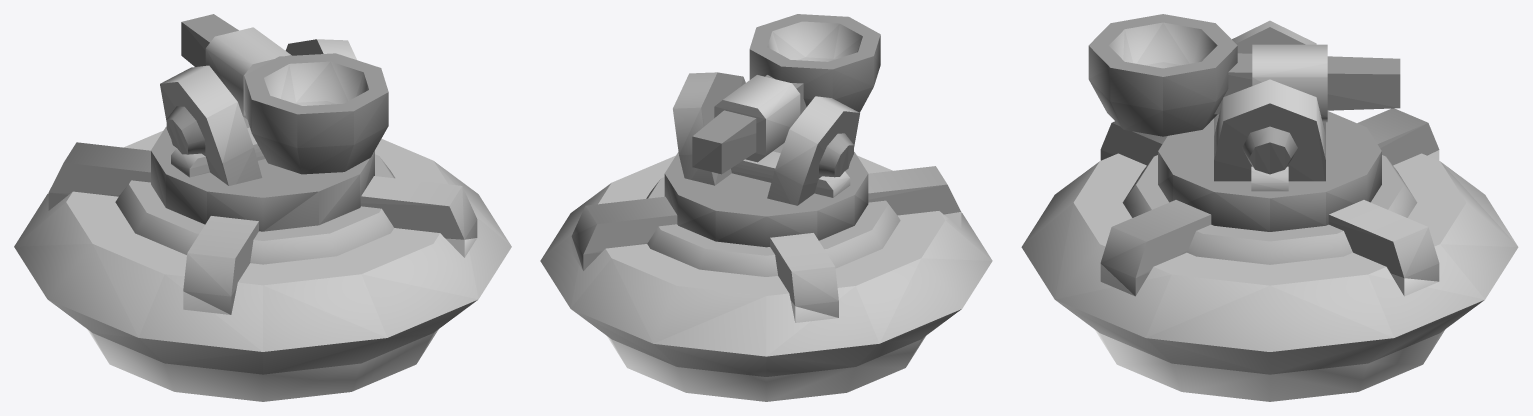
Rendered from monsoon_spotter.glb.
3 renders of one model, left to right at view 1: azimuth 30°, elevation 25°; view 2: azimuth 150°, elevation 25°; view 3: azimuth 270°, elevation 25°, orthographic. The views are drawn at different scales.
Visible parts, largest first — view 1: Body; view 2: Body; view 3: Body.
Part boxes in pixels (bbox=[...]): Body: bbox=[14, 14, 511, 401]; Body: bbox=[540, 14, 992, 401]; Body: bbox=[1021, 14, 1518, 401].
Size of the model in its own units: 2.5 by 1.56 by 2.5.
2 materials, 1 textured.
